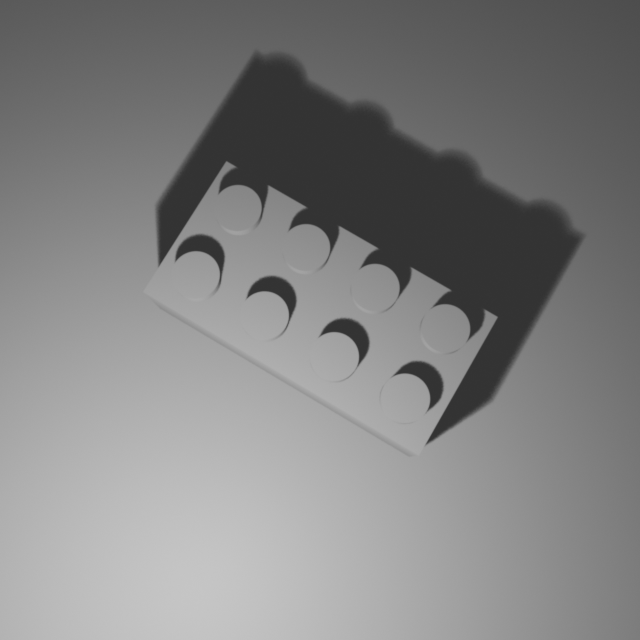lego_2x4: (140, 156, 501, 457)
